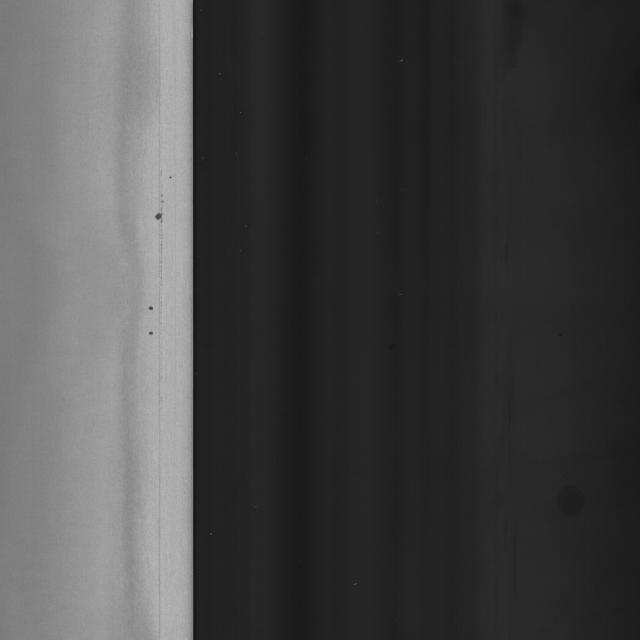welding_line: (145, 294, 158, 346), (151, 202, 166, 224)
